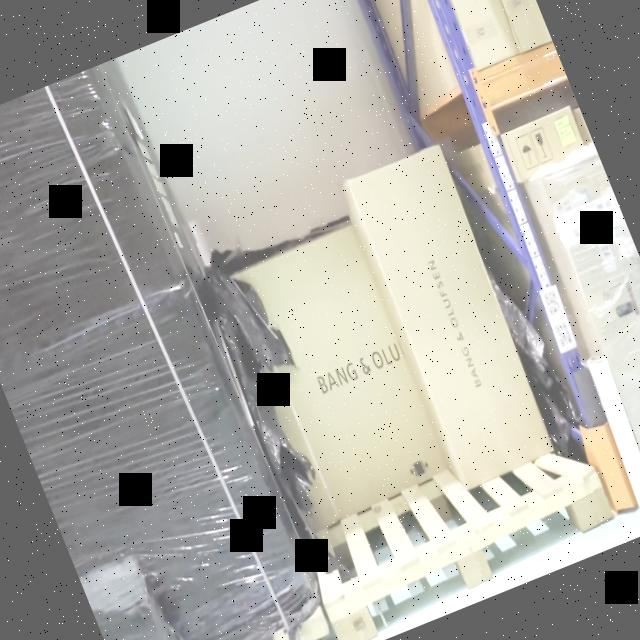box: (0, 64, 318, 640), (204, 224, 454, 534), (349, 147, 553, 482), (541, 154, 640, 446), (504, 108, 585, 174)
